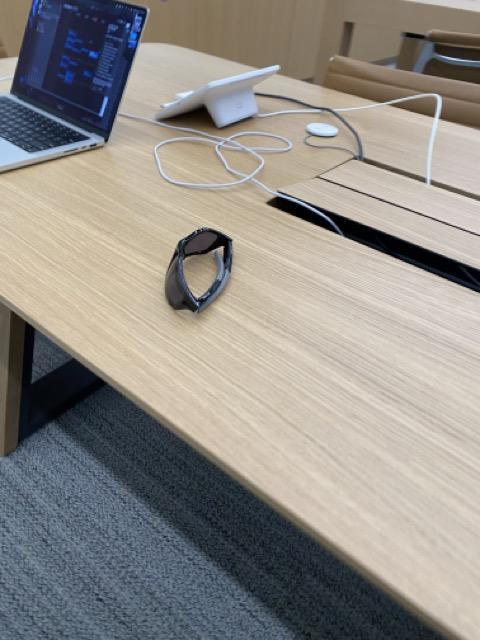Sunglasses: (165, 224, 235, 318)
